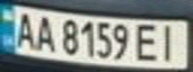1: (78, 18, 96, 57)
5: (93, 19, 115, 58)
8: (57, 16, 81, 56)
9: (109, 20, 136, 61)
A: (9, 9, 39, 50), (30, 12, 57, 53)
E: (133, 21, 163, 63)
I: (154, 21, 184, 62)
